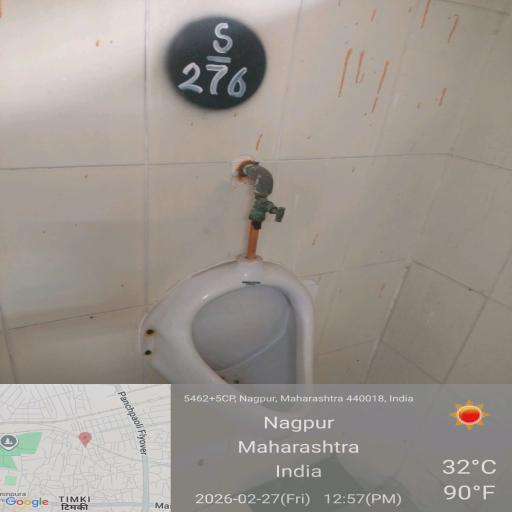clean_floor: (30, 25, 490, 238)
clean_urinal: (132, 258, 361, 447)
